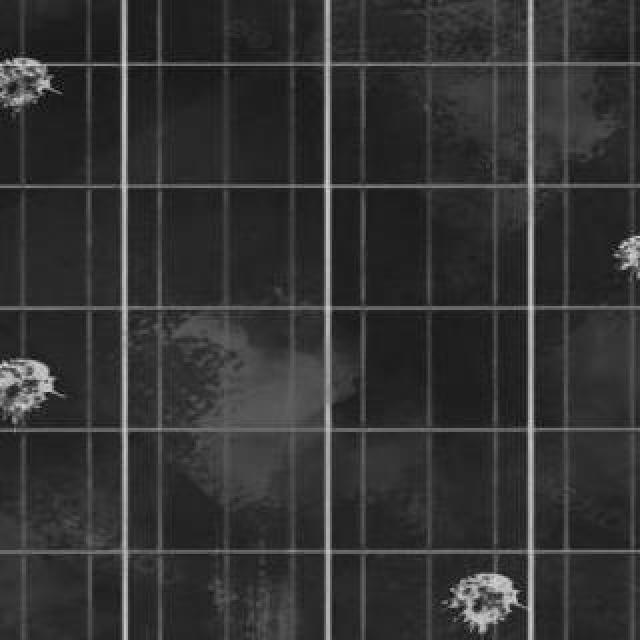Physical-damage: (429, 549, 534, 639), (0, 33, 90, 135), (4, 328, 79, 432), (606, 190, 640, 292)
